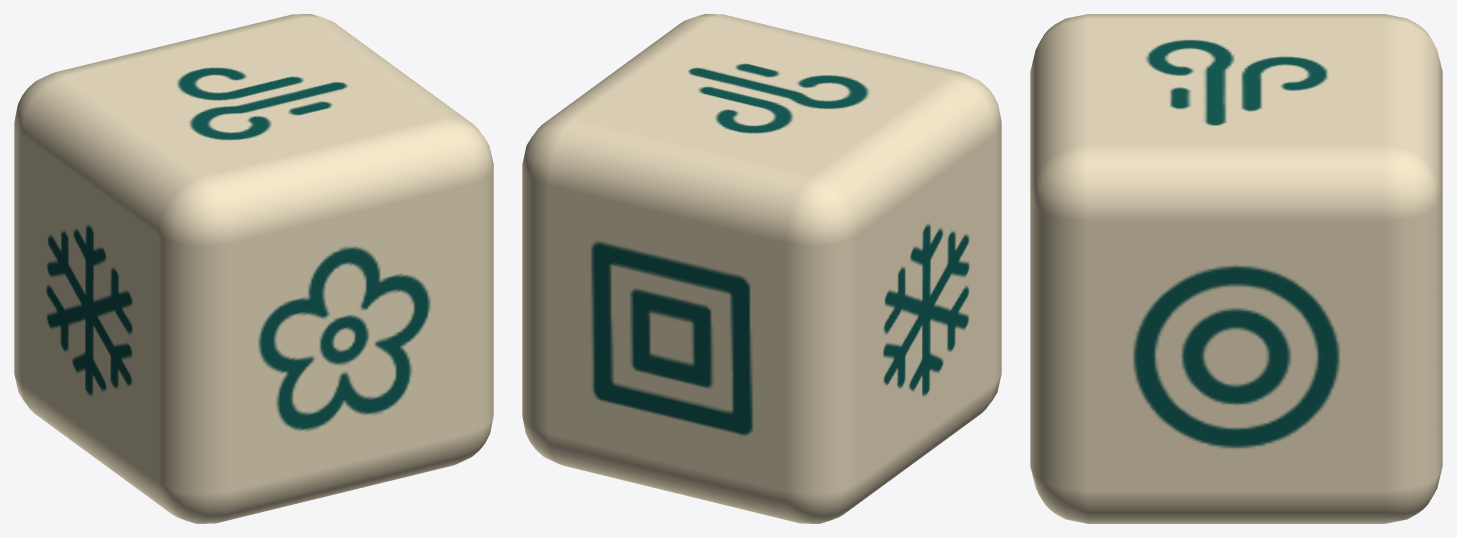
Rendered from RodDice.obj.
3 renders of one model, left to right at view 1: azimuth 30°, elevation 25°; view 2: azimuth 150°, elevation 25°; view 3: azimuth 270°, elevation 25°, orthographic. The views are drawn at different scales.
Parts seen in each view (by area): view 1: RodDice; view 2: RodDice; view 3: RodDice.
Boxes of the visible parts, bbox=[...] form: RodDice: bbox=[14, 14, 493, 523]; RodDice: bbox=[522, 14, 1001, 523]; RodDice: bbox=[1030, 14, 1442, 523].
Bounding box in the file's own units: 1 × 1 × 1.
Materials: 1 (1 with a texture image).
